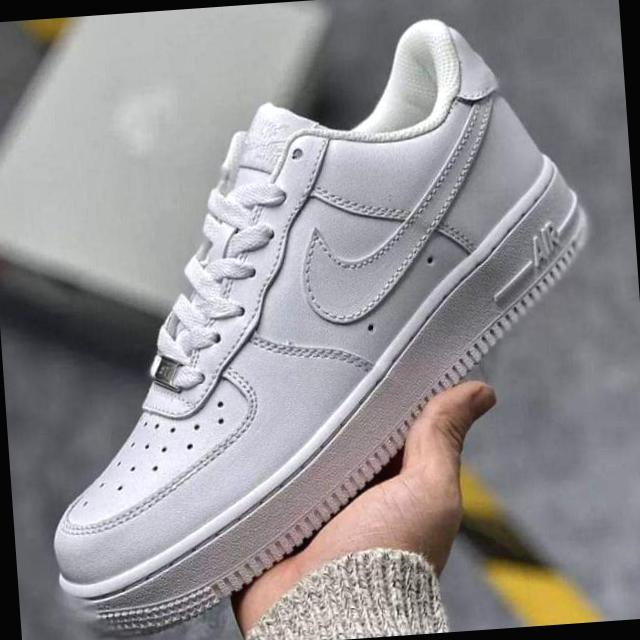nike_original_airforce: (15, 10, 623, 640)
